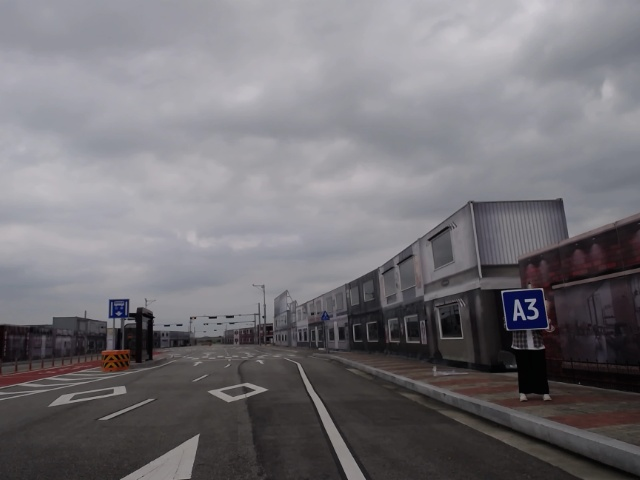delivery_a3: (502, 288, 549, 330)
